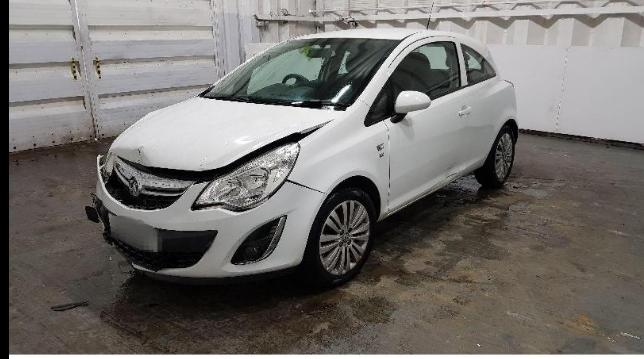Back-wheel: (475, 125, 516, 187)
Back-window: (460, 43, 497, 86)
Fender: (287, 100, 390, 215)
Front-bumper: (91, 155, 327, 278)
Front-door: (382, 36, 480, 209)
Front-wheel: (311, 186, 377, 284)
Front-window: (364, 41, 461, 128)
Grille: (100, 154, 200, 210)
Headlight: (192, 141, 299, 213)
Hood: (109, 94, 344, 172)
License-plate: (109, 212, 162, 253)
Mirror: (390, 91, 431, 123)
Quarter-panel: (469, 74, 519, 159)
Rocker-panel: (378, 156, 486, 224)
Roof: (291, 27, 428, 40)
Windshield: (199, 38, 403, 111)
